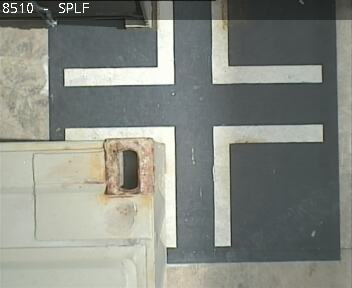groundmarker_1: (65, 123, 323, 248), (63, 1, 322, 87)
